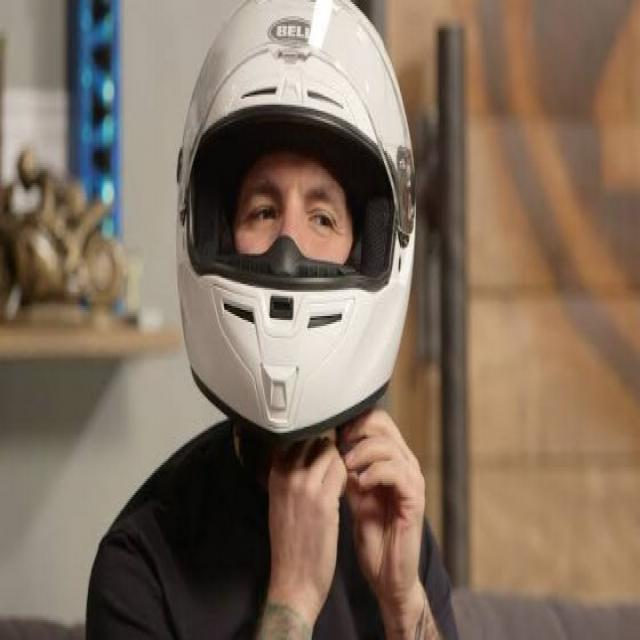Helm: (173, 6, 419, 443)
